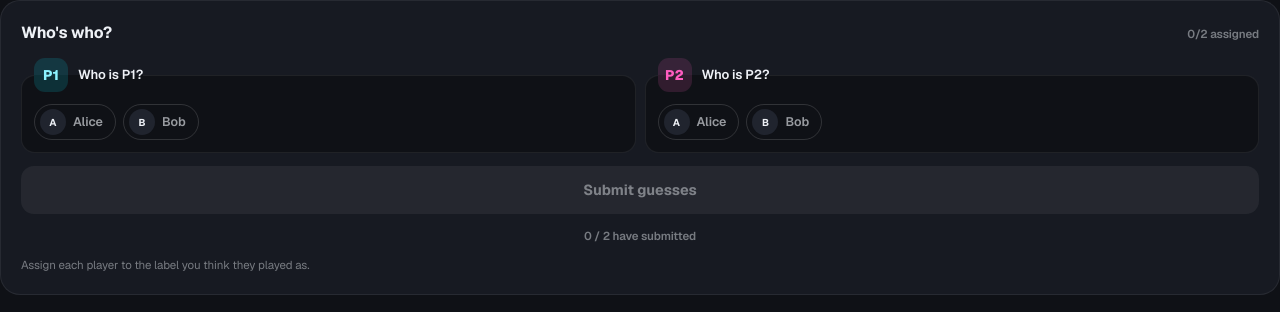
Scenario: GuessingPhaseScreen › counts how many labels are assigned
This screenshot has width=1280, height=312.
Check: the text "0/2 assigned" is shown, box x1=1187 y1=25 x2=1259 y2=42
Click the button "A Alice" below "Who is P1?": (75, 122) x1=34 y1=104 x2=116 y2=140
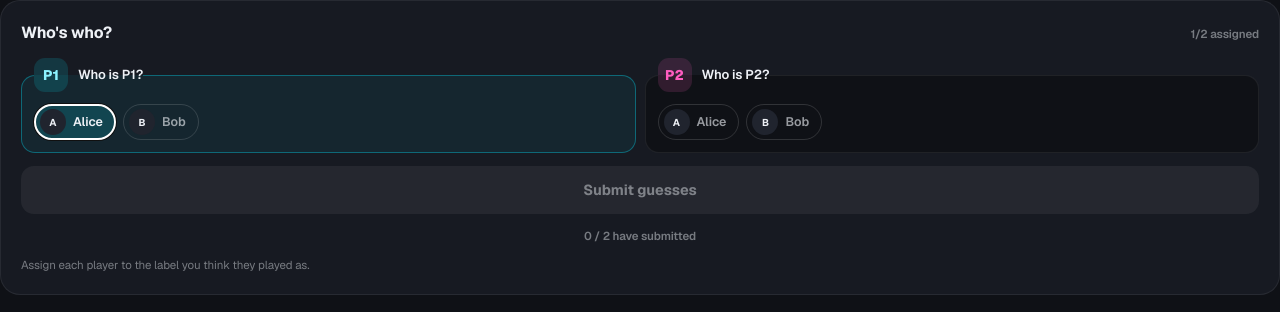
Check: the text "1/2 assigned" is shown, box x1=1190 y1=25 x2=1259 y2=42
